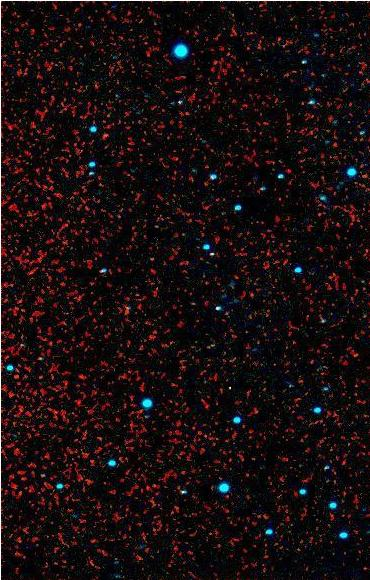star: (91, 120, 121, 150)
